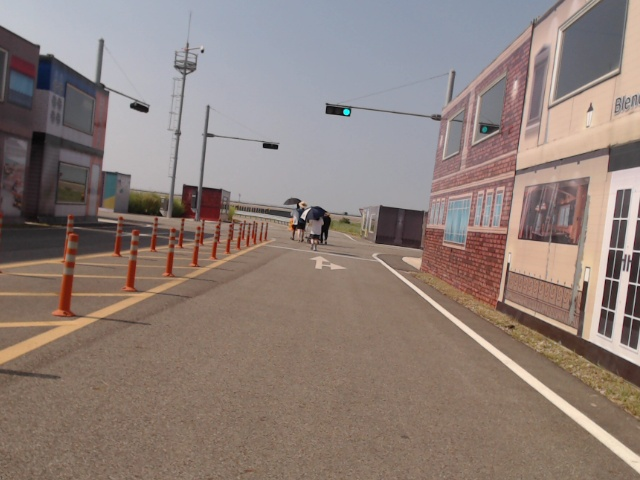green_3: (326, 106, 352, 117)
